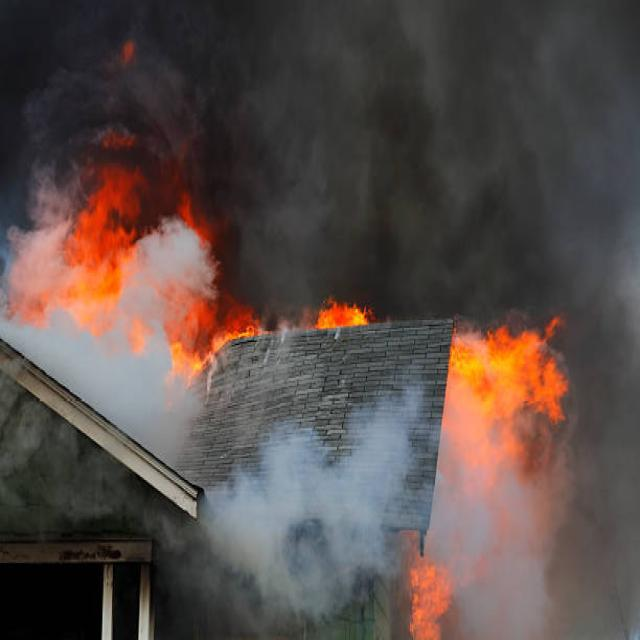Fire: (13, 206, 175, 306), (452, 334, 590, 434), (85, 131, 151, 240), (164, 304, 230, 371), (409, 558, 452, 636)
Smoke: (185, 0, 640, 311), (2, 4, 211, 261), (448, 445, 640, 638)
